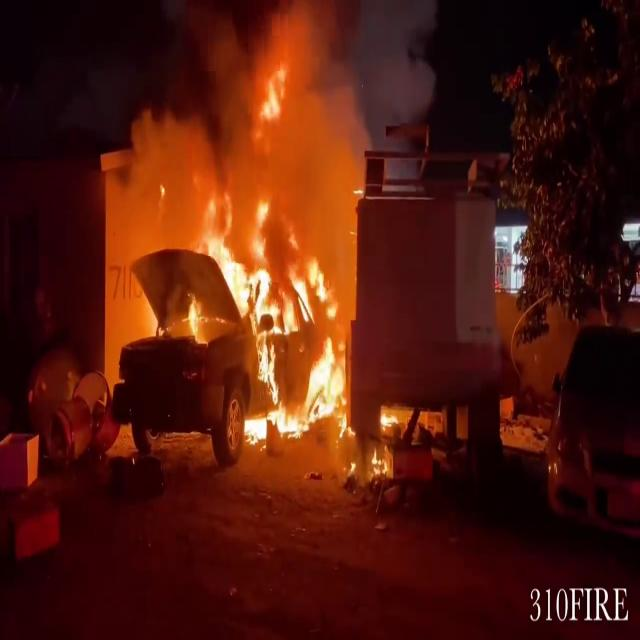Fire: (192, 71, 350, 445)
Smoke: (128, 0, 438, 229)
